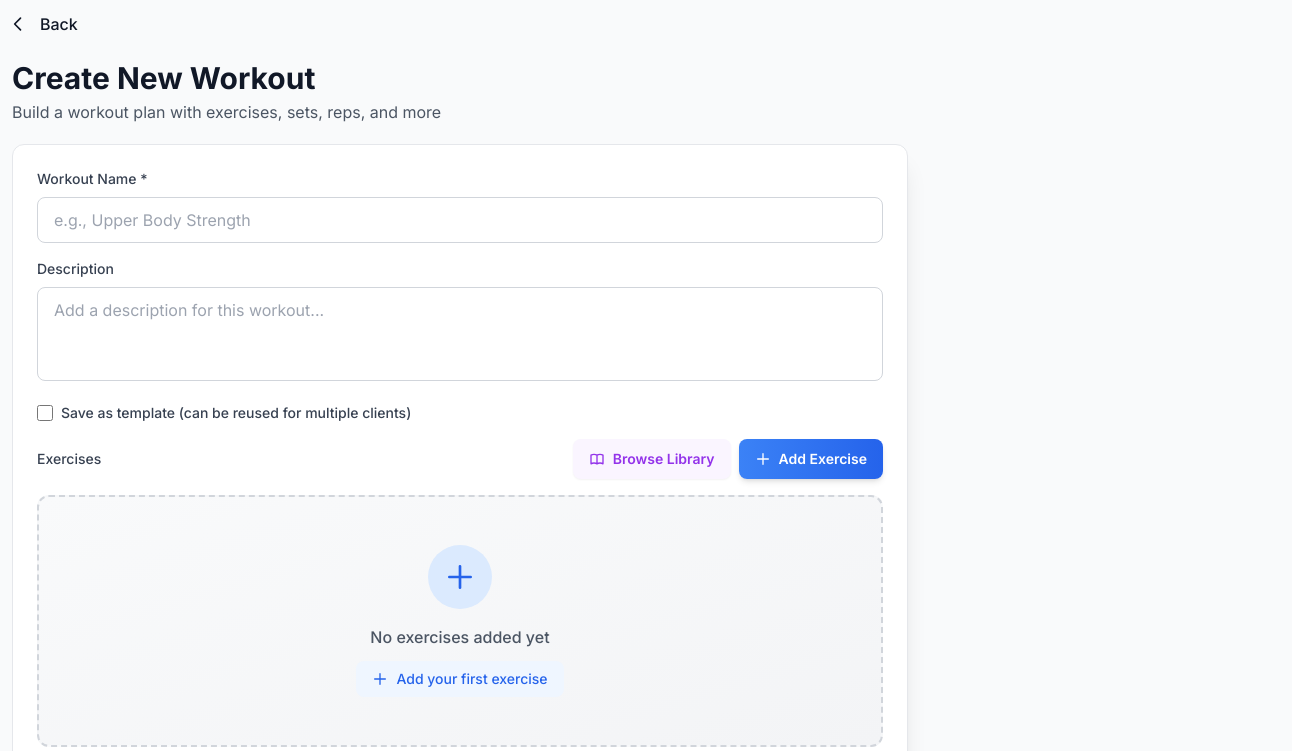
Scenario: NewWorkoutForm › should allow adding exercises
Click the button "Add Exercise" at (811, 459), box [739,439,883,479]
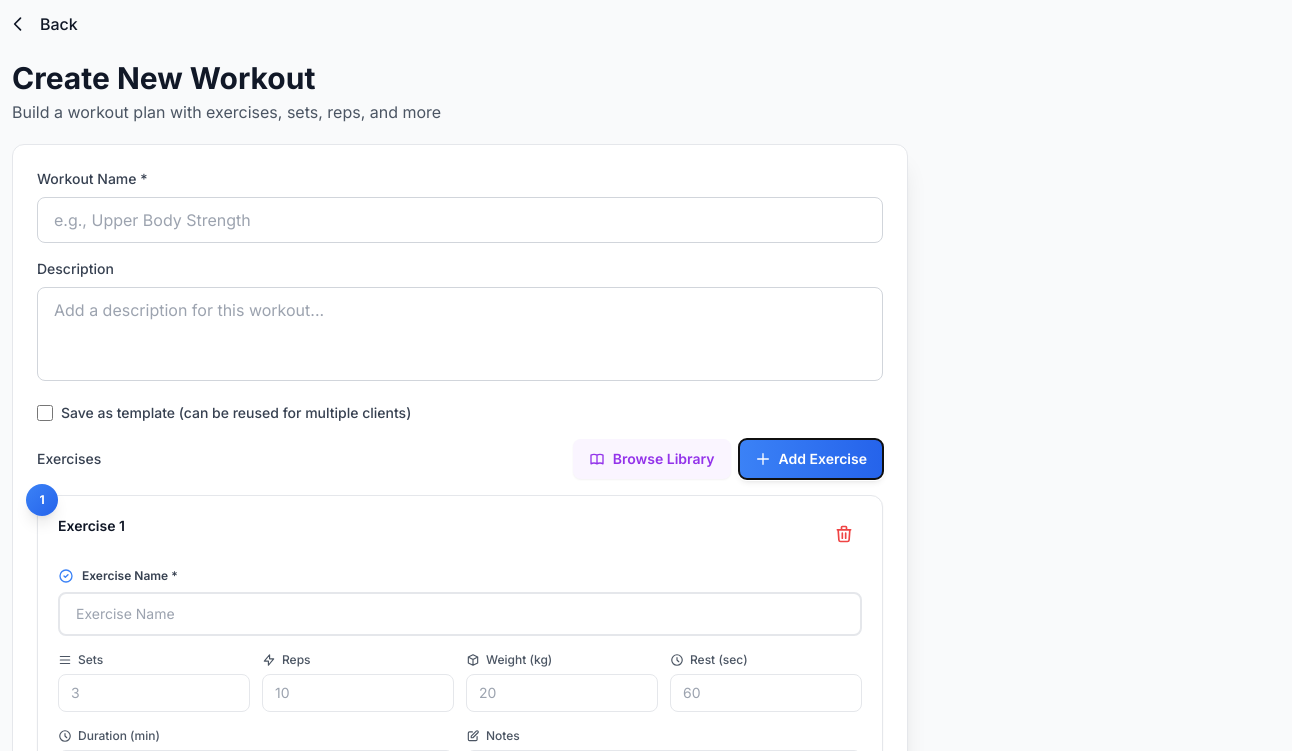
Check: the field with placeholder "Exercise Name" is shown, box [58,592,862,636]
